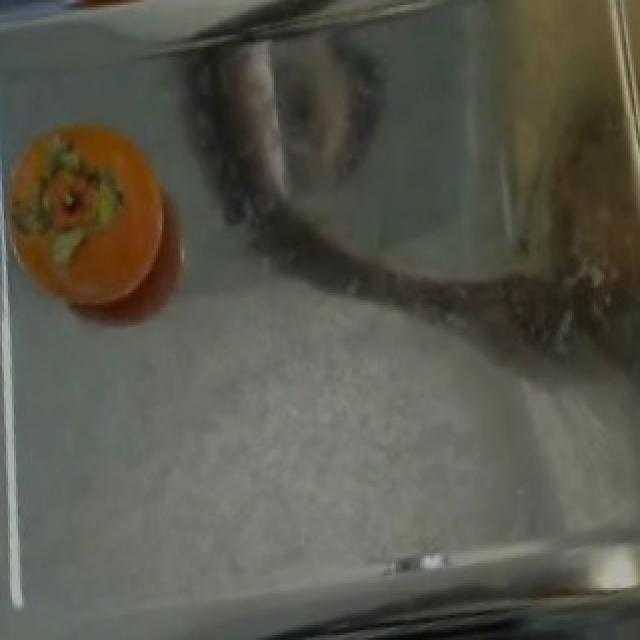Fruit: (2, 97, 186, 330)
